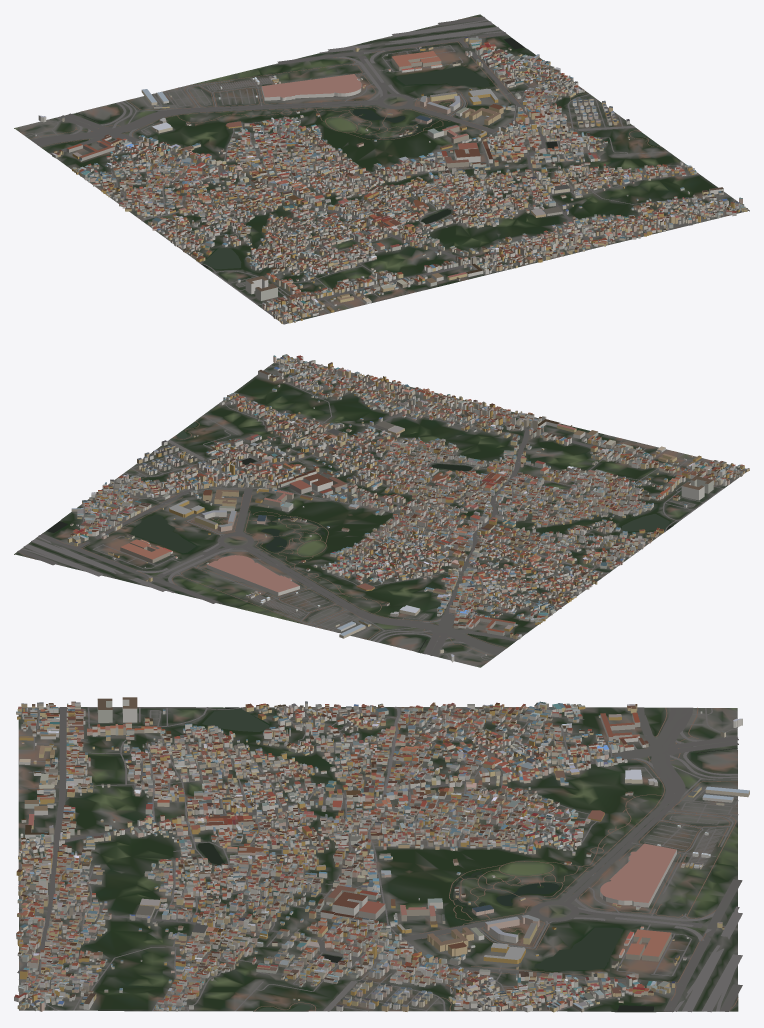
3 views of the same model, one above another, from view 1: azimuth 30°, elevation 25°; view 2: azimuth 150°, elevation 25°; view 3: azimuth 270°, elevation 25° (orthographic). The views are drawn at different scales.
Visible parts, largest first — view 1: buildings, ground, roads, water; view 2: buildings, ground, roads, water; view 3: buildings, ground, roads, water.
Part boxes in pixels (<box>): buildings: <box>35,36,748,323</box>; ground: <box>14,14,749,324</box>; roads: <box>24,16,736,323</box>; water: <box>76,37,658,269</box>; buildings: <box>67,354,749,662</box>; ground: <box>14,357,749,667</box>; roads: <box>17,362,746,660</box>; water: <box>46,422,671,652</box>; buildings: <box>14,697,749,1012</box>; ground: <box>18,707,738,1012</box>; roads: <box>17,706,742,1012</box>; water: <box>198,707,737,1011</box>.
Bounding box in the file's own units: 1414 × 36.29 × 1435.
